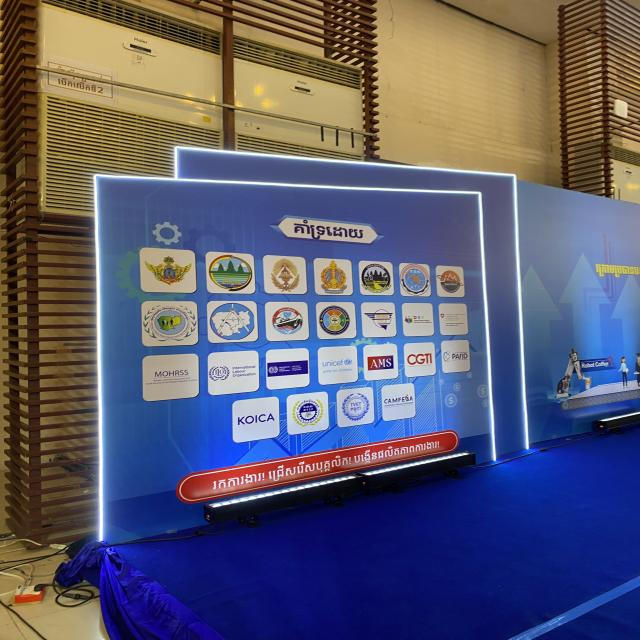2: (206, 436, 442, 495)
631: (95, 85, 106, 95)
Yolov11kh: (290, 215, 370, 241), (591, 261, 637, 281), (54, 75, 99, 94)
